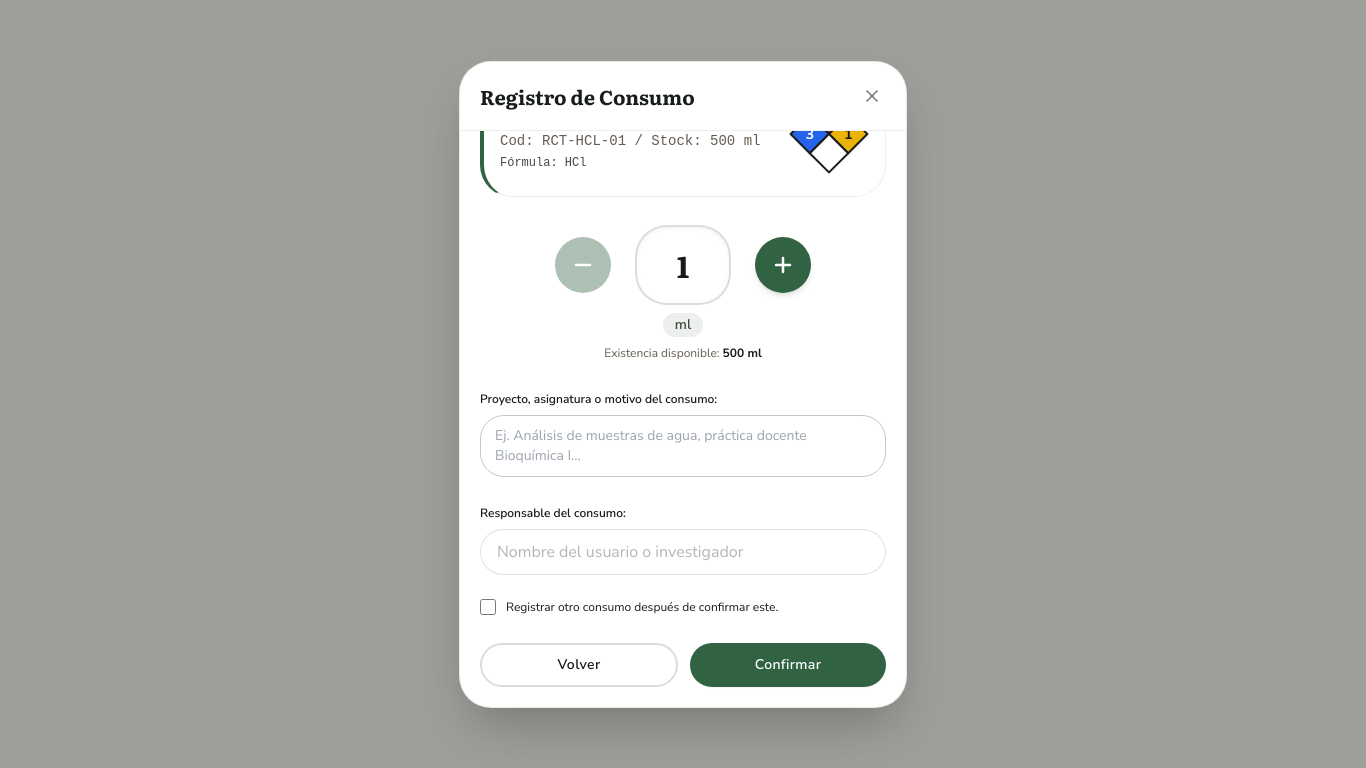
Test: ConsumeModal Component (HU05) › displays error if consumption fails
(page scrolled)
Step 1. Click the button "Confirmar" → (788, 664), box top-left (690, 642), bottom-right (886, 686)
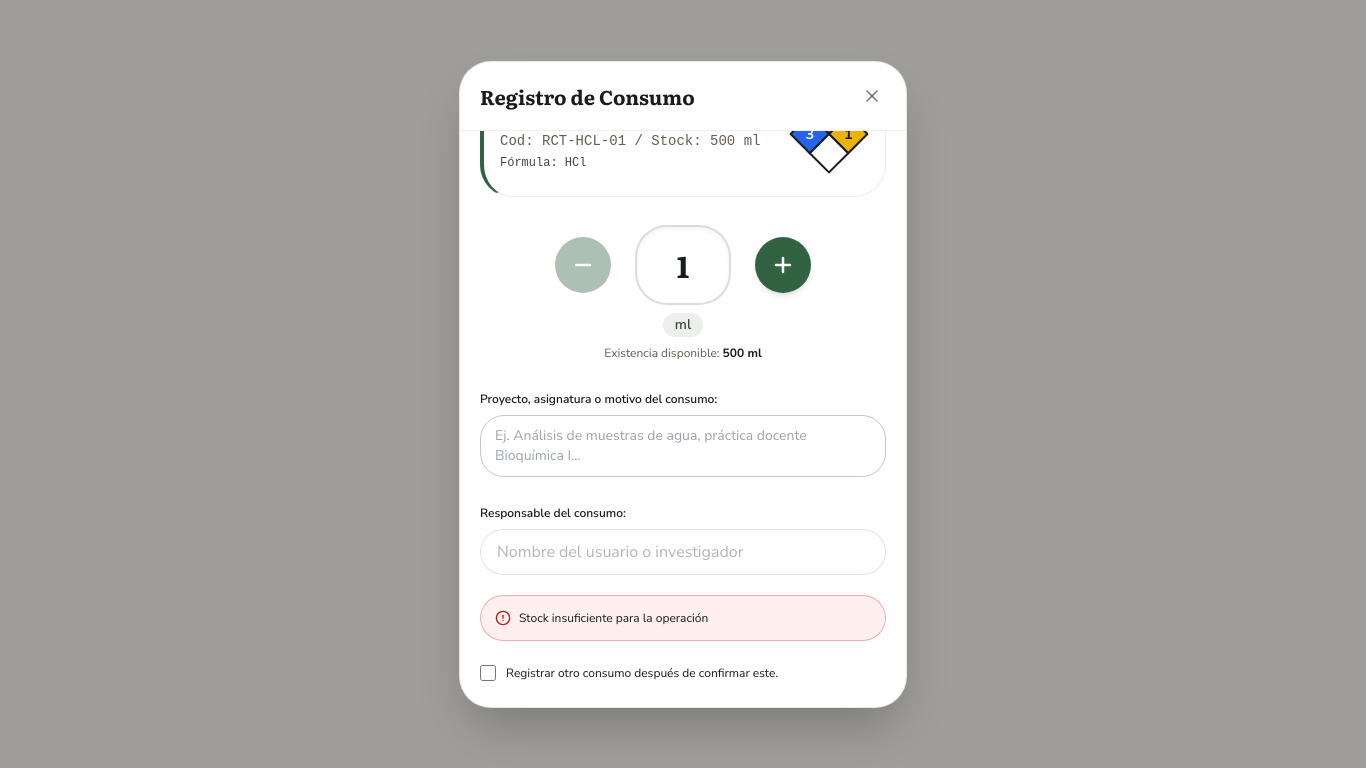
Check: the text "Stock insuficiente para la operación" is shown, box top-left (519, 610), bottom-right (708, 626)
